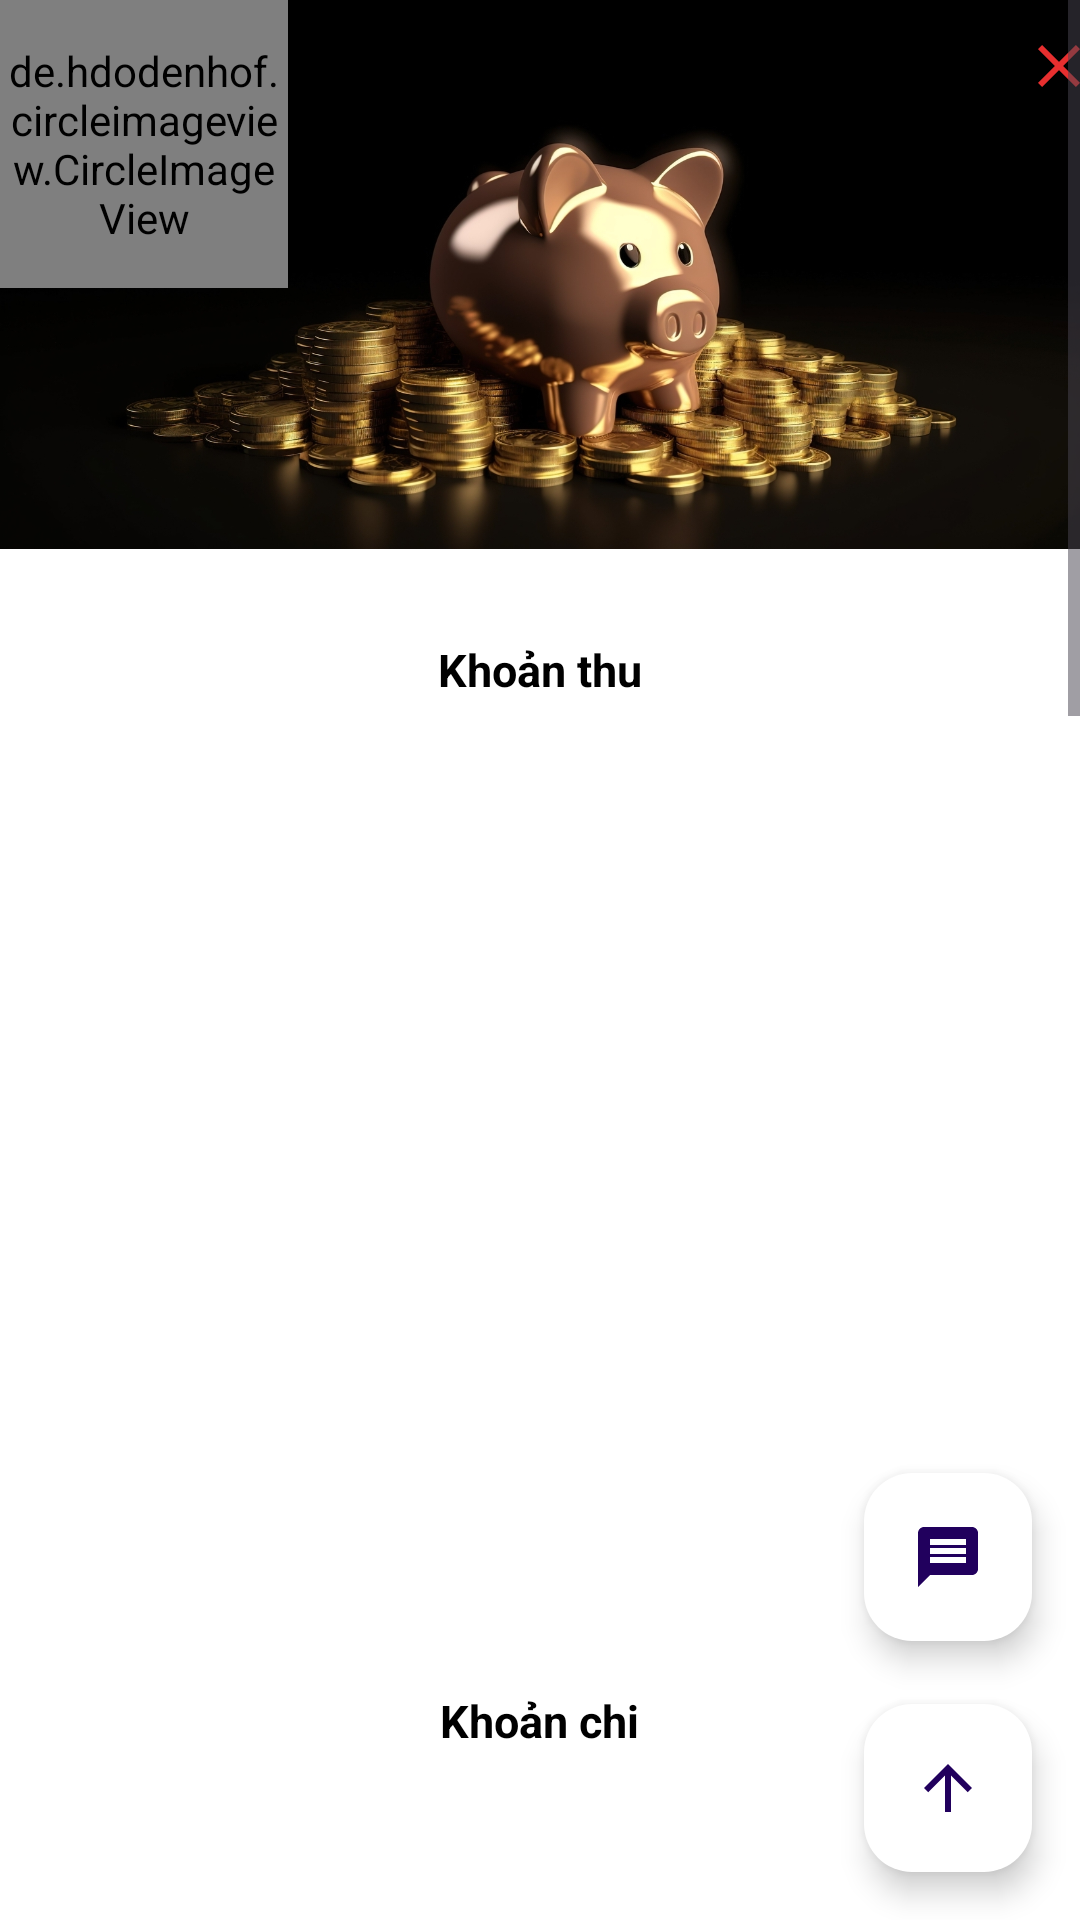

Icons on this 1080px×1920px Android screen, each with the point to tap as [x,y]:
mes: [948,1557]
